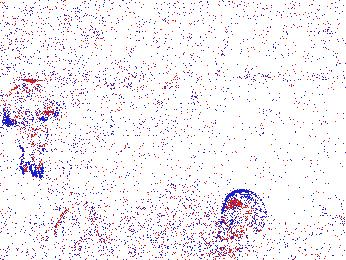flame jellyfish: (2, 82, 63, 177), (51, 204, 114, 260), (215, 189, 267, 240)
